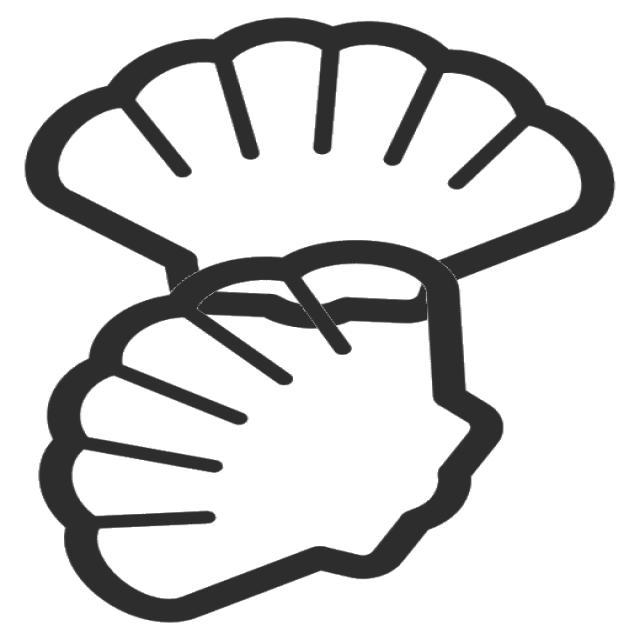shell: (24, 230, 529, 629), (14, 8, 628, 336)
